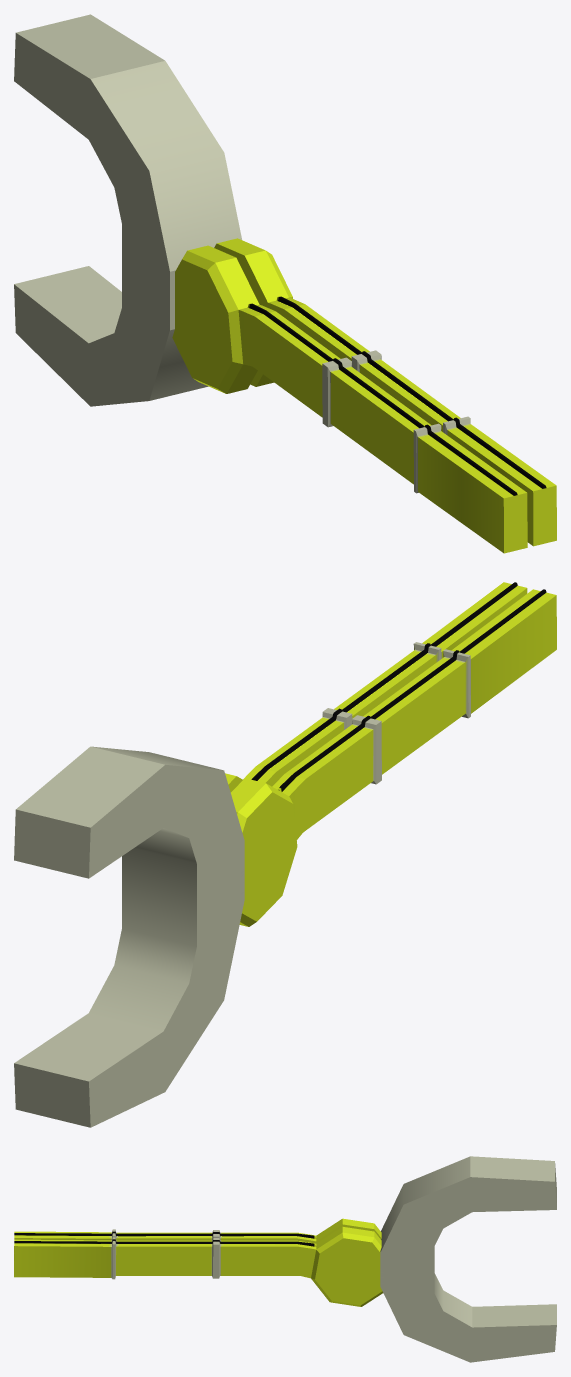
Rendered from braccio.fbx.
The picture shows the model from 3 angles, top to bottom: view 1: azimuth 30°, elevation 25°; view 2: azimuth 150°, elevation 25°; view 3: azimuth 270°, elevation 25°; orthographic projection. The views are drawn at different scales.
Visible parts, largest first — view 1: polySurface4; view 2: polySurface4; view 3: polySurface4.
Boxes of the visible parts, bbox=[...] form: polySurface4: bbox=[14, 14, 556, 553]; polySurface4: bbox=[14, 582, 556, 1127]; polySurface4: bbox=[14, 1156, 556, 1362].
Size of the model in its own units: 0.3679 by 1.54 by 4.07.
